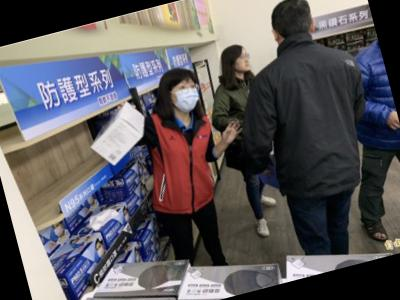with_mask: (168, 78, 204, 115)
without_mask: (233, 50, 254, 73)
